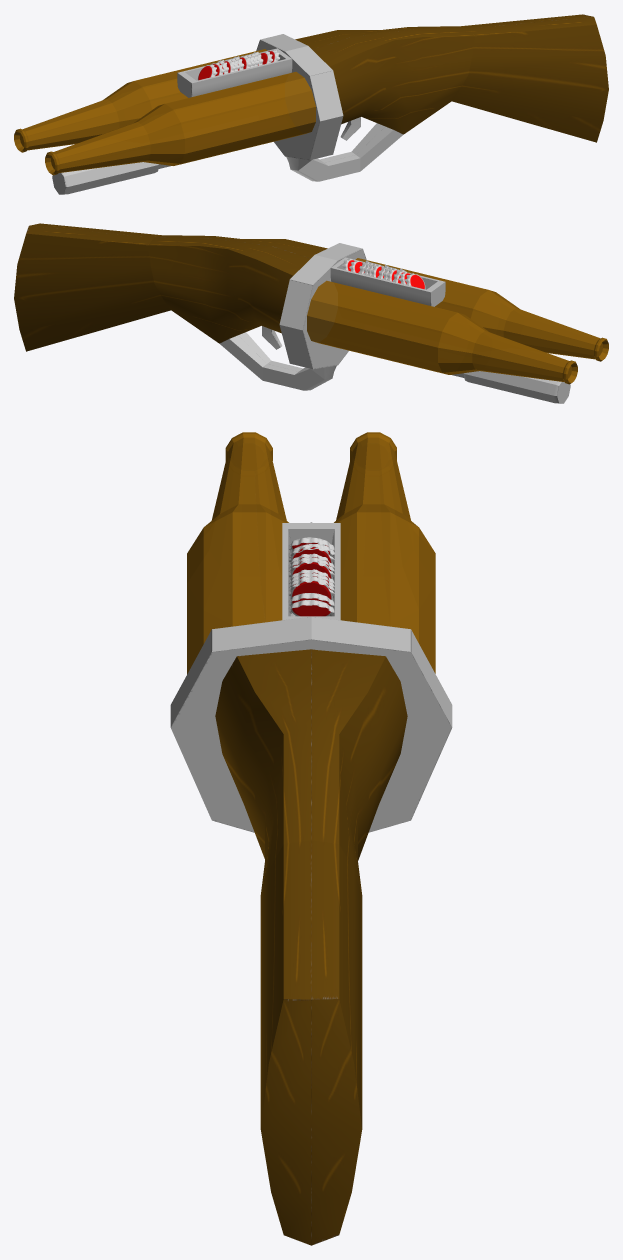
Rendered from capShooter.fbx.
3 renders of one model, top to bottom at view 1: azimuth 30°, elevation 25°; view 2: azimuth 150°, elevation 25°; view 3: azimuth 270°, elevation 25°, orthographic. The views are drawn at different scales.
Parts seen in each view (by area): view 1: polySurface182; view 2: polySurface182; view 3: polySurface182.
Part boxes in pixels (<box>): polySurface182: <box>14,14,608,194</box>; polySurface182: <box>14,223,608,403</box>; polySurface182: <box>170,432,452,1245</box>.
Bounding box in the file's own units: 2.96 × 0.8453 × 0.6368.
Materials: 2 (2 with a texture image).
